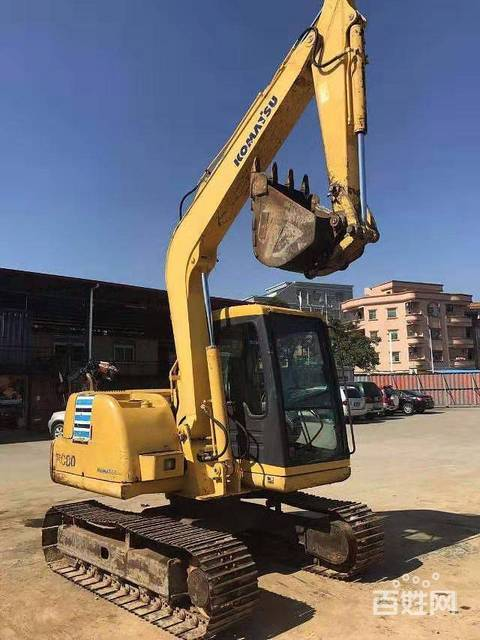excavator: (33, 1, 407, 640)
